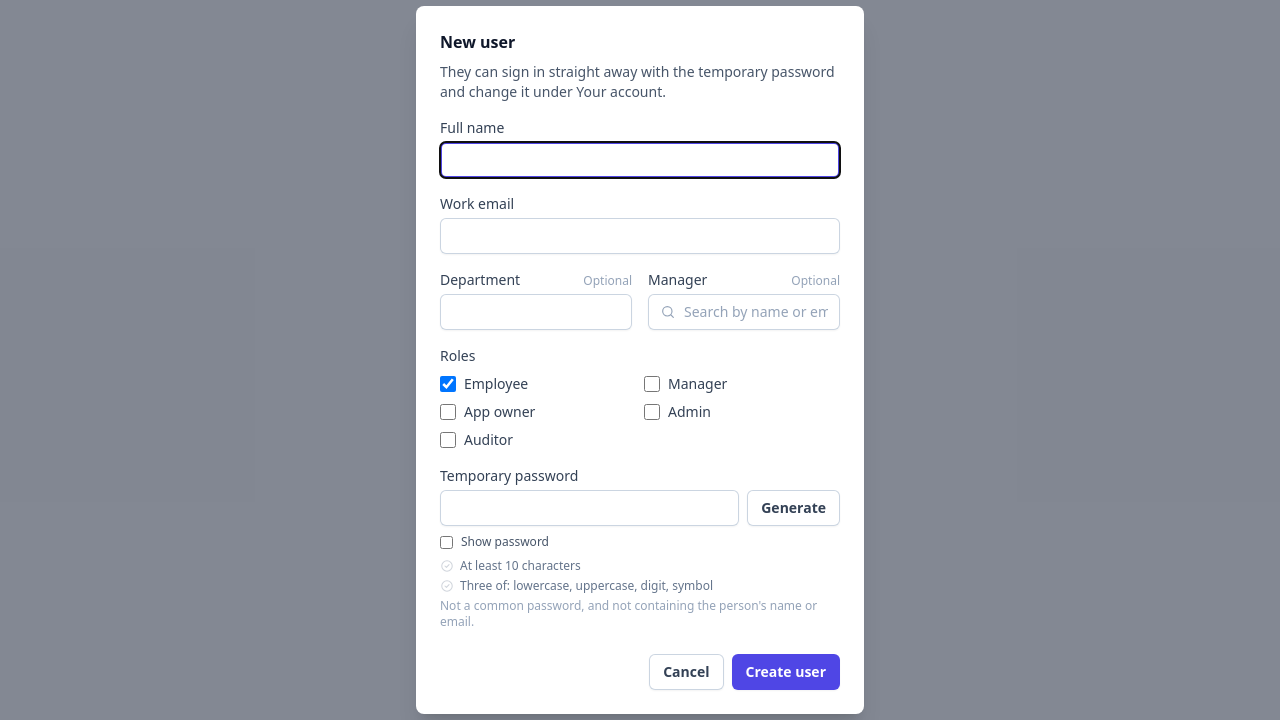
it: CreateUserModal › shows the server password-policy problems and a taken email inline
The image size is (1280, 720).
Type "Nina New" into the field labelled "Full name" at (640, 160), box [440,142,840,178]
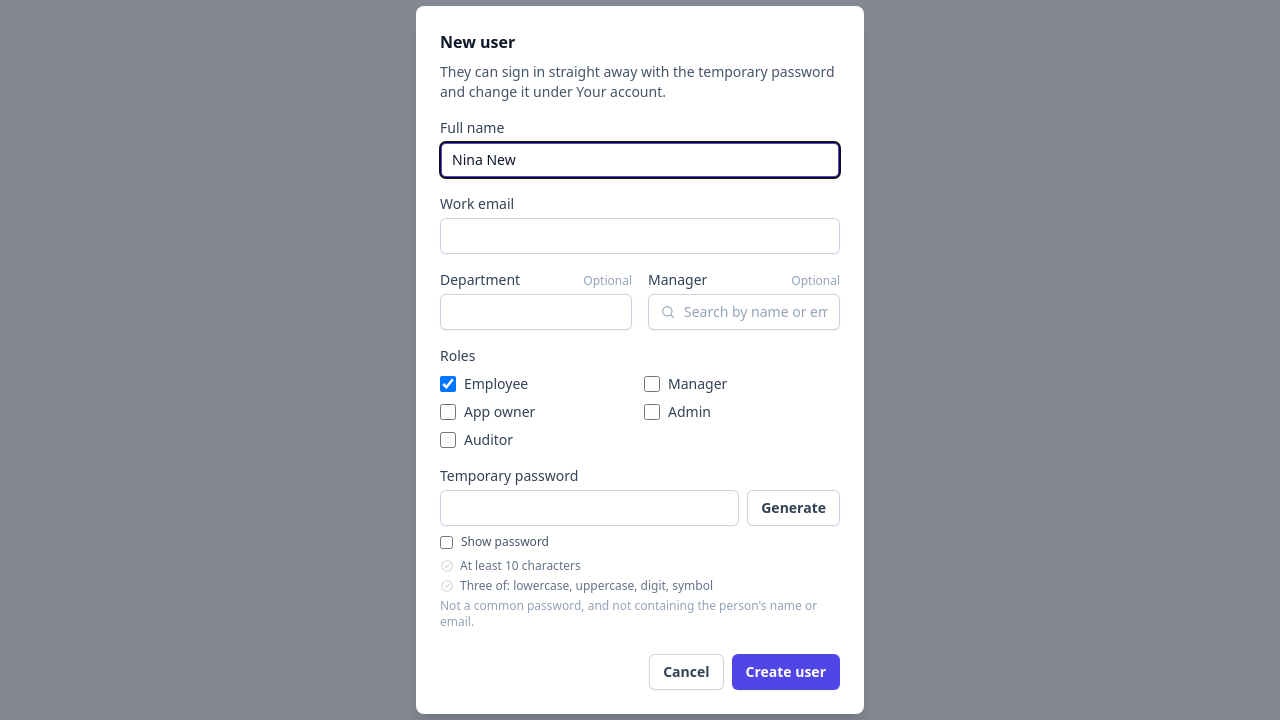
Type "nina@example.com" into the field labelled "Work email" at (640, 236), box [440,218,840,254]
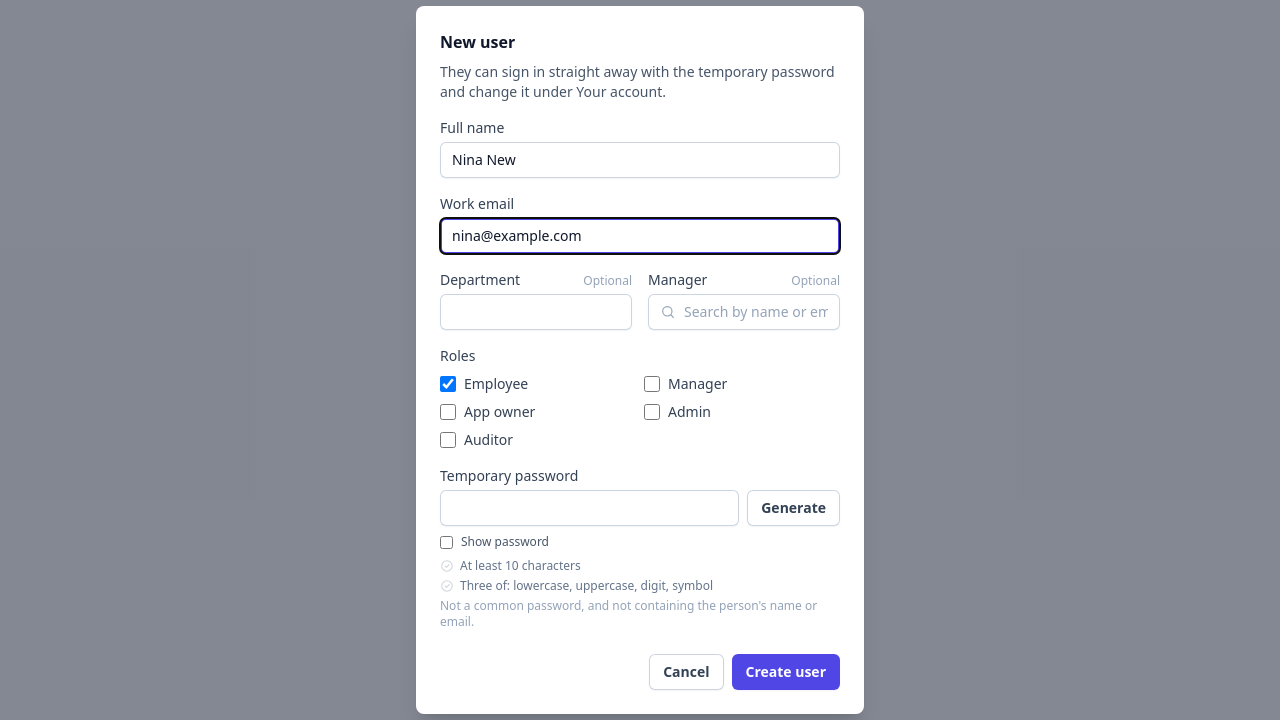
Type "NinaNew-2026!" into the password field labelled "Temporary password" at (590, 508), box [440,490,739,526]
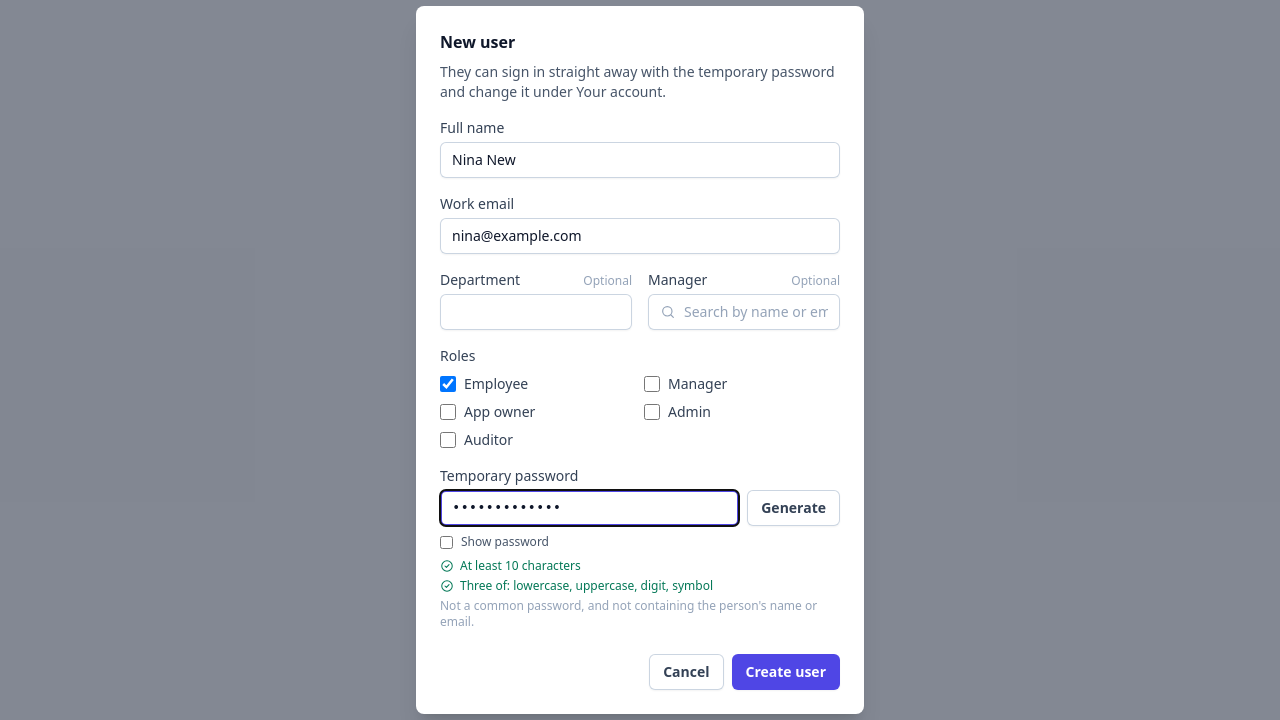
Click the button "Create user" at (786, 672), box [732,654,840,690]
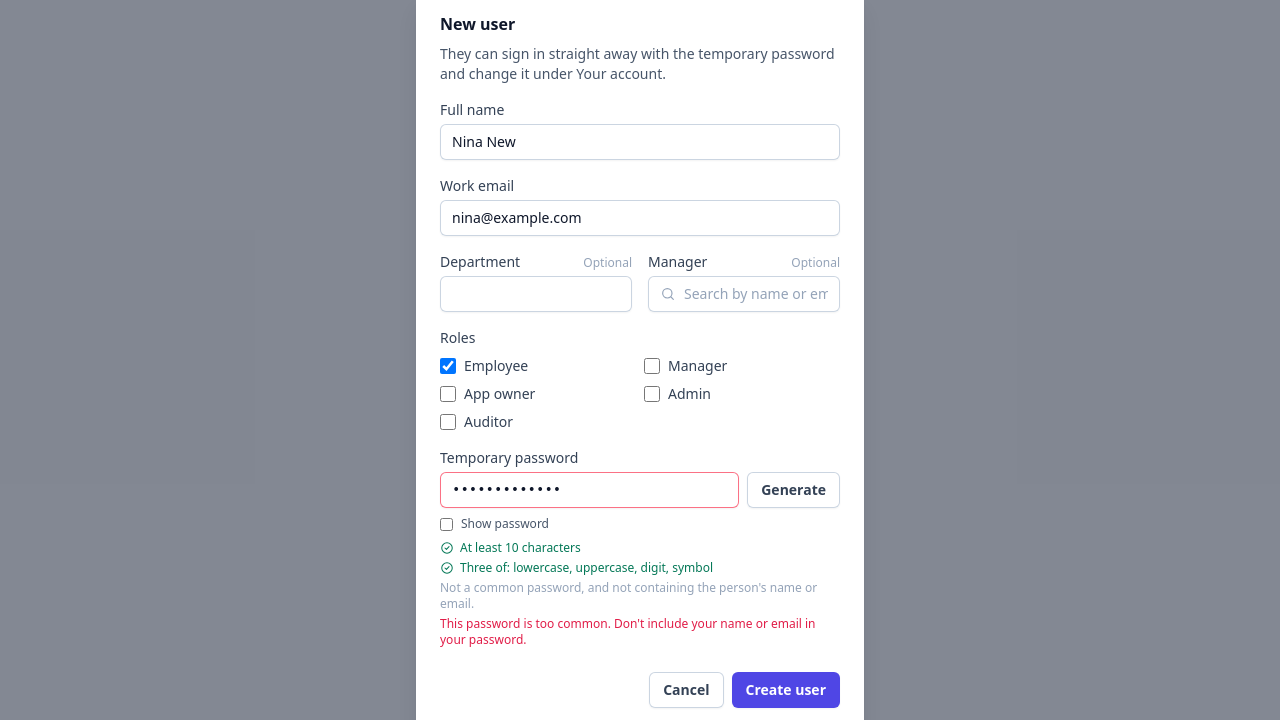
Click the button "Create user" at (786, 690), box [732,672,840,708]
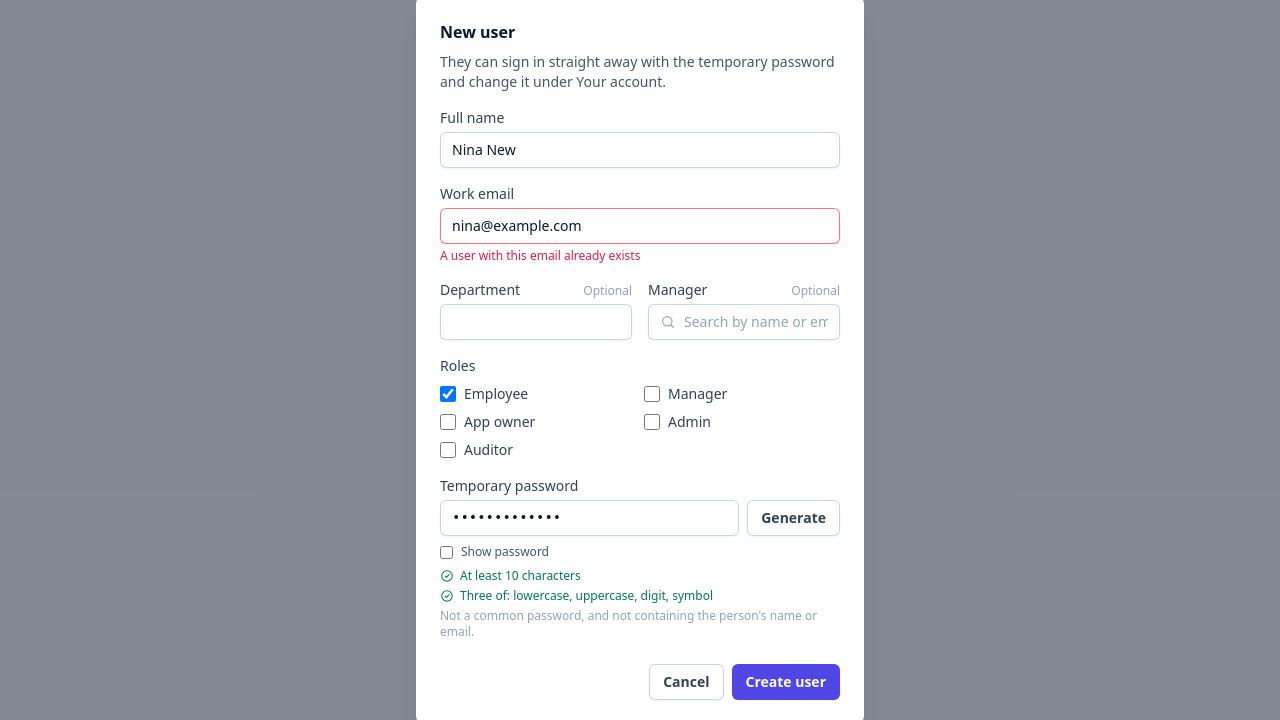
Check: the text "A user with this email already exists" is shown, box [440,247,640,264]
